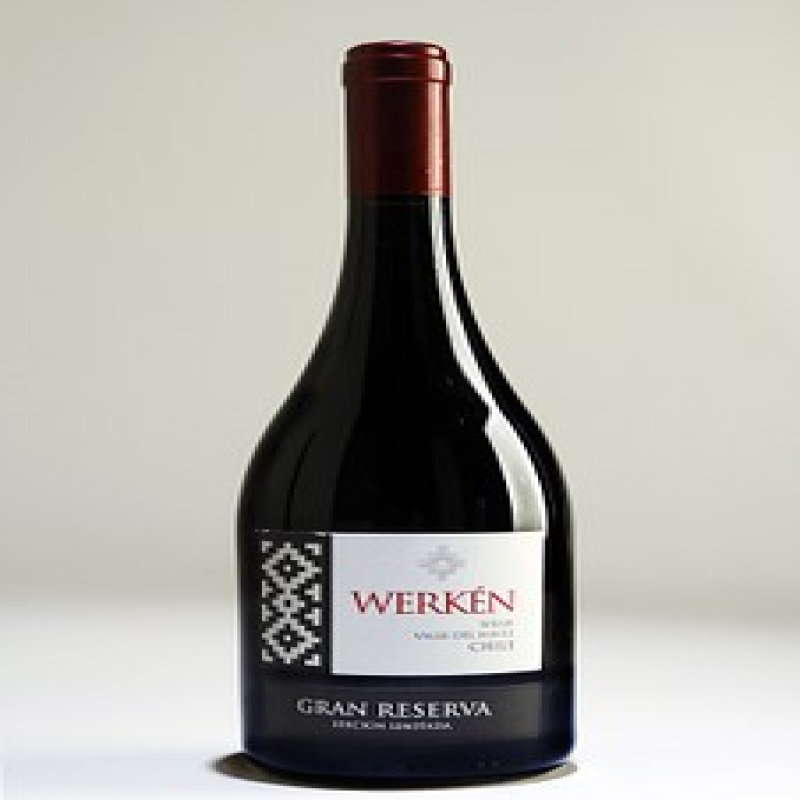wine: (225, 43, 594, 777)
